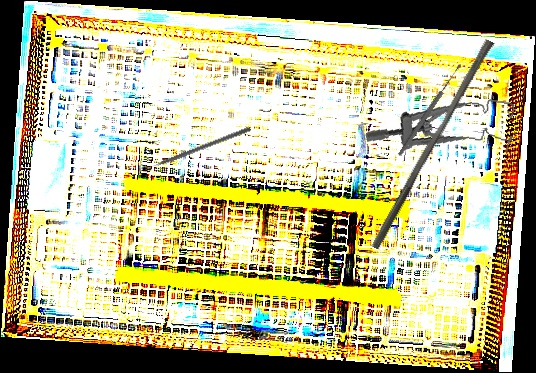Pusher: (370, 34, 495, 255), (140, 125, 252, 173)
Speculum: (364, 80, 519, 166)
Surgical Spoon: (396, 62, 464, 158)
